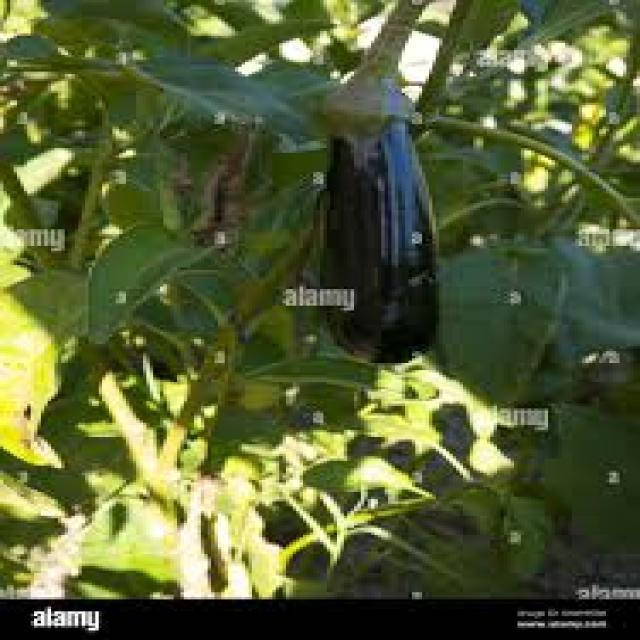Eggplant: (318, 33, 452, 364)
